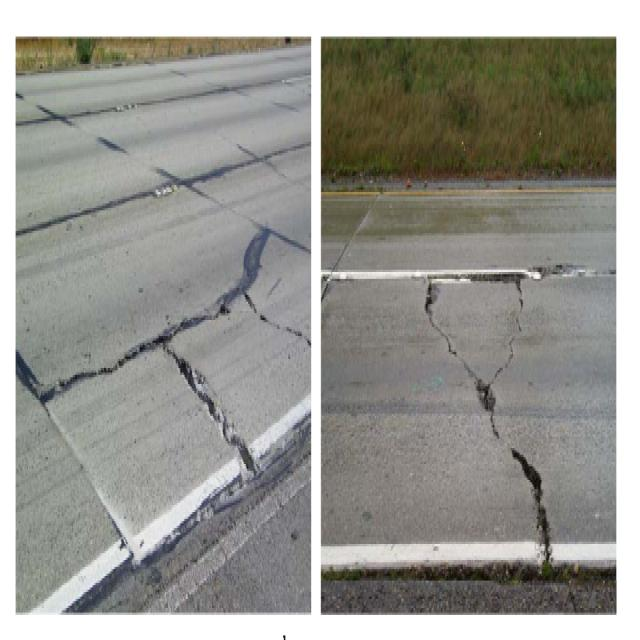Pothole: (415, 248, 640, 640), (147, 278, 330, 604)
